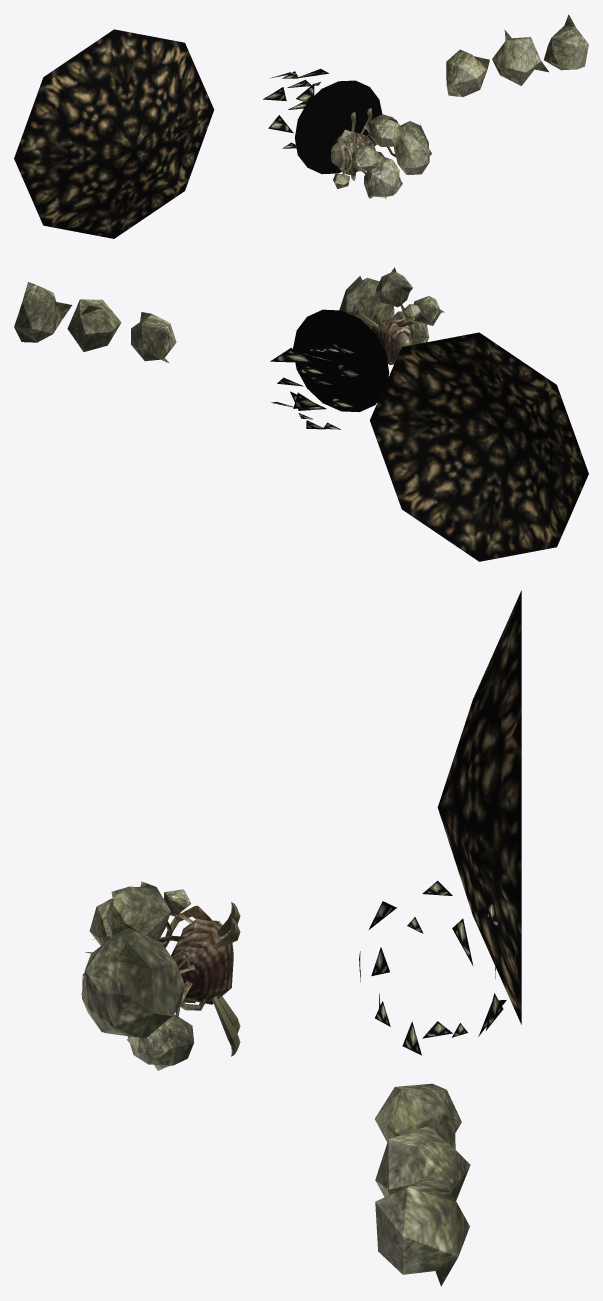
3 views of the same model, one above another, from view 1: azimuth 30°, elevation 25°; view 2: azimuth 150°, elevation 25°; view 3: azimuth 270°, elevation 25° (orthographic). The views are drawn at different scales.
Visible parts, largest first — view 1: M_0020_1, M_0020_0; view 2: M_0020_1, M_0020_0; view 3: M_0020_0, M_0020_1.
Boxes of the visible parts, box(x1,y1,x2,y2) form: M_0020_1: box(14, 29, 328, 238); M_0020_0: box(295, 14, 588, 199); M_0020_1: box(270, 332, 588, 561); M_0020_0: box(14, 267, 444, 412); M_0020_0: box(81, 881, 470, 1286); M_0020_1: box(359, 590, 521, 1055).
Bounding box in the file's own units: 19.6 × 7.2 × 6.85.
2 materials, 2 textured.
